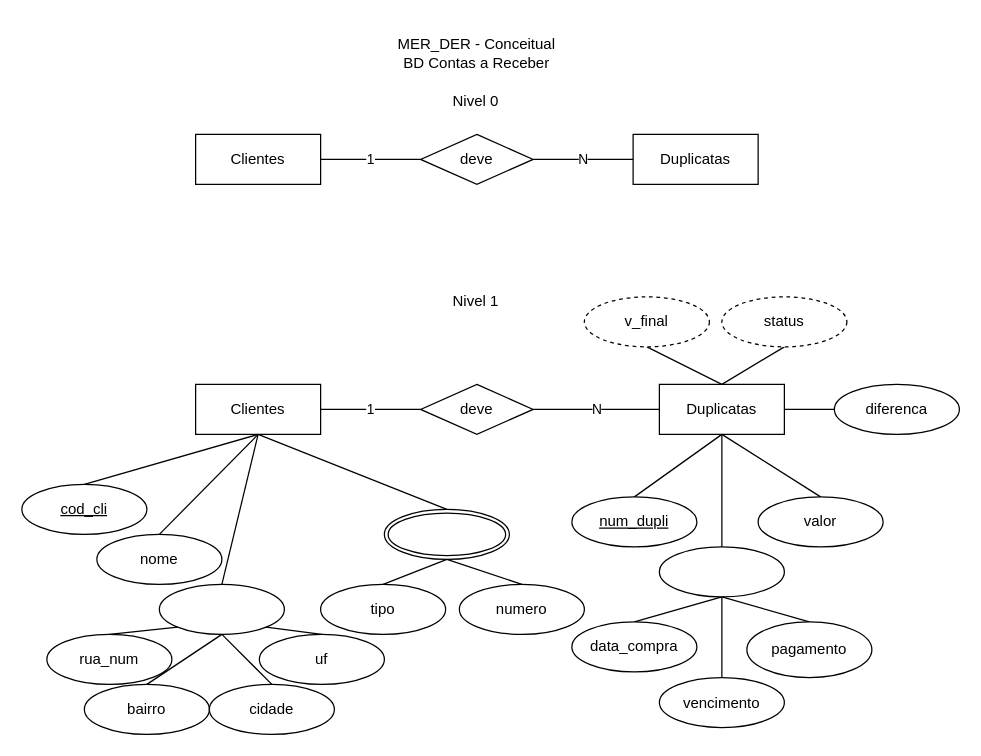
This 981x756 diagram has some shape labels left out. The centre of each missing label's shape, as x and y in pixels:
datas: [721,571]
endereco: [221,608]
telefones: [446,533]
